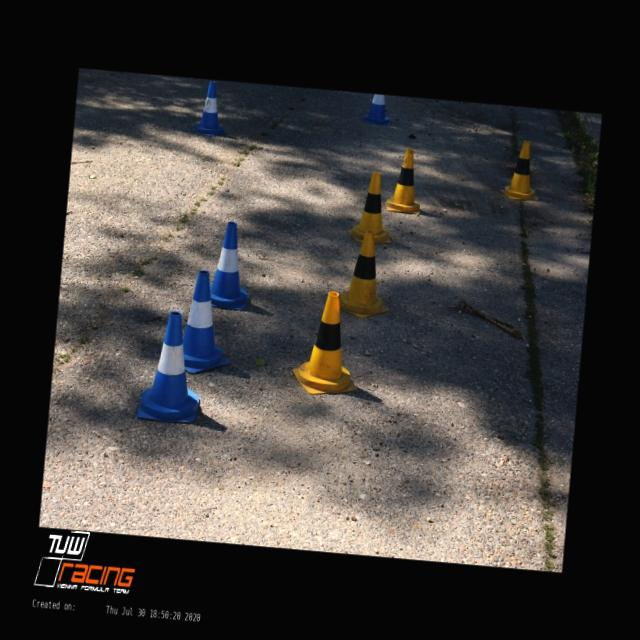blue_cone: (136, 308, 206, 424), (170, 268, 238, 376), (201, 220, 255, 311), (190, 78, 232, 138), (361, 93, 392, 125)
yellow_cone: (290, 288, 364, 396), (331, 227, 395, 320), (346, 168, 397, 244), (499, 138, 544, 201), (384, 146, 425, 214)
